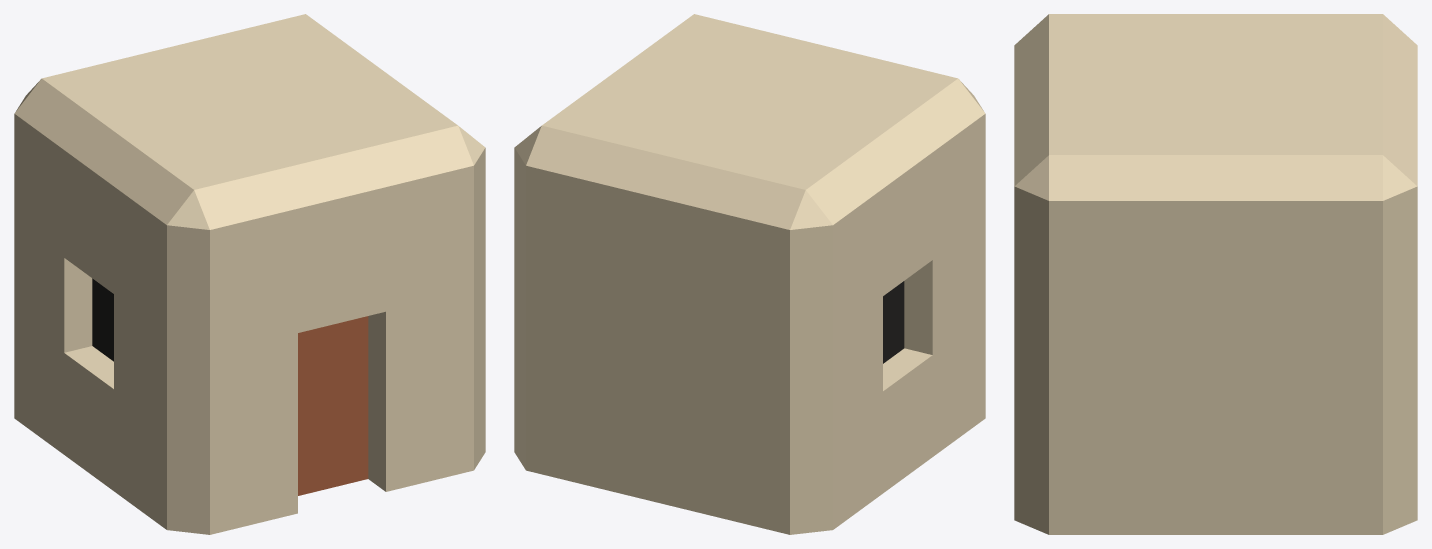
File: House.FBX
3 renders of one model, left to right at view 1: azimuth 30°, elevation 25°; view 2: azimuth 150°, elevation 25°; view 3: azimuth 270°, elevation 25°, orthographic. The views are drawn at different scales.
Parts seen in each view (by area): view 1: House; view 2: House; view 3: House.
Boxes of the visible parts, box(x1,y1,x2,y2) form: House: box(14, 14, 485, 534); House: box(514, 14, 985, 534); House: box(1014, 14, 1417, 534).
Size of the model in its own units: 118 by 118 by 118.
